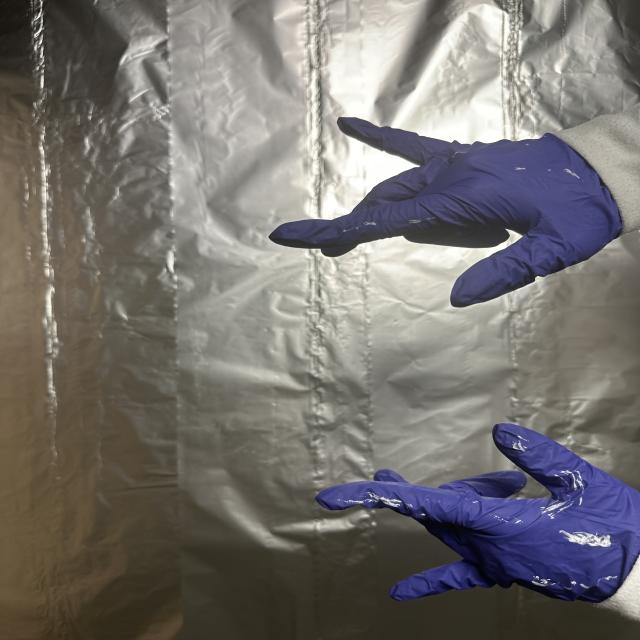gloves_contaminated: (269, 118, 622, 307), (316, 423, 640, 602)
